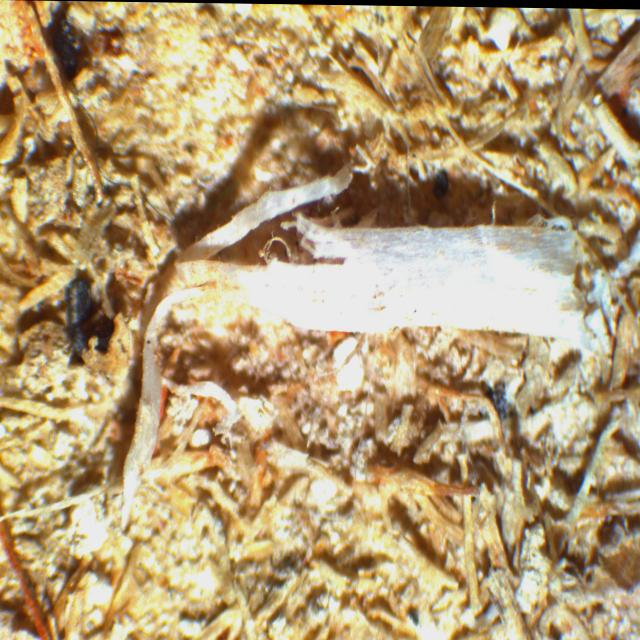microplastic: (173, 193, 602, 352)
